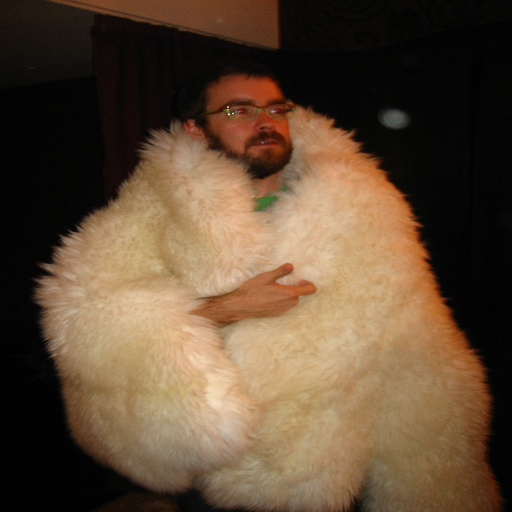hand: (205, 260, 327, 325)
